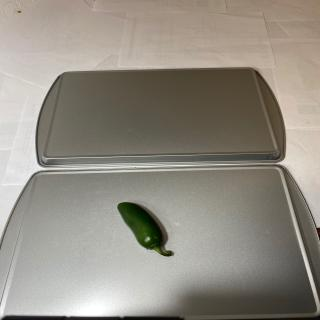Chilli: (117, 201, 173, 257)
